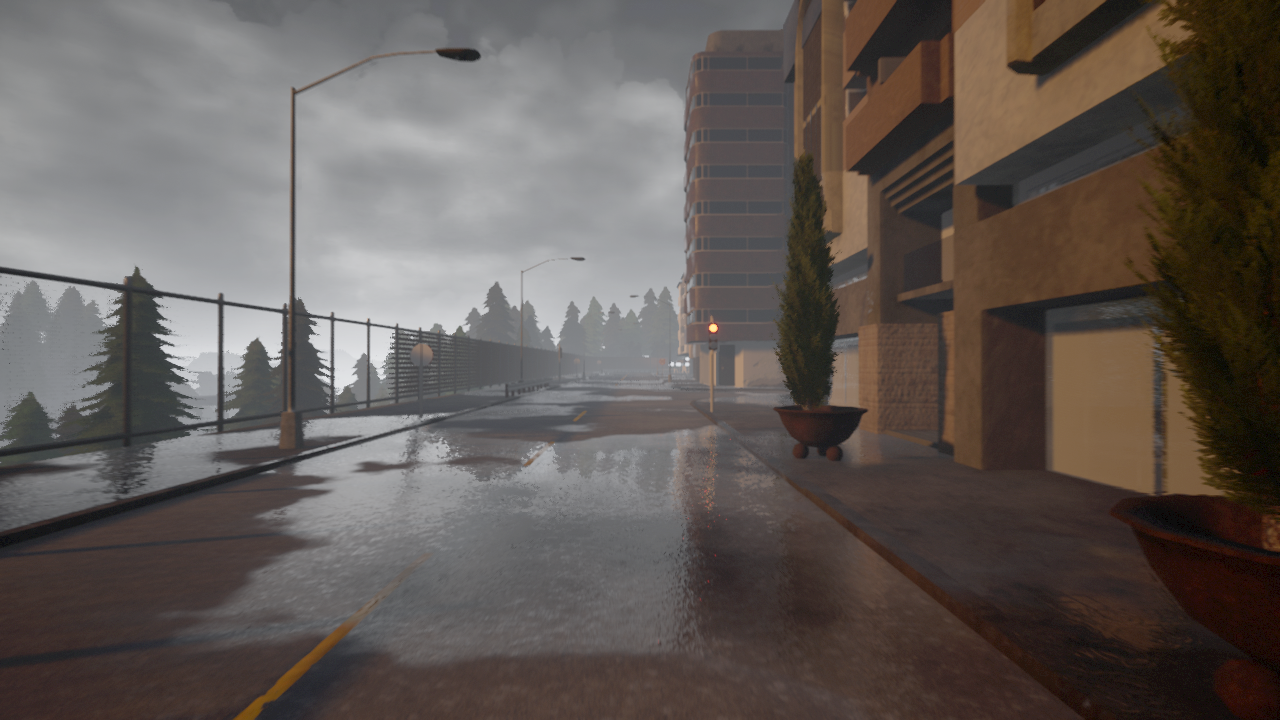red: (707, 322, 719, 351)
